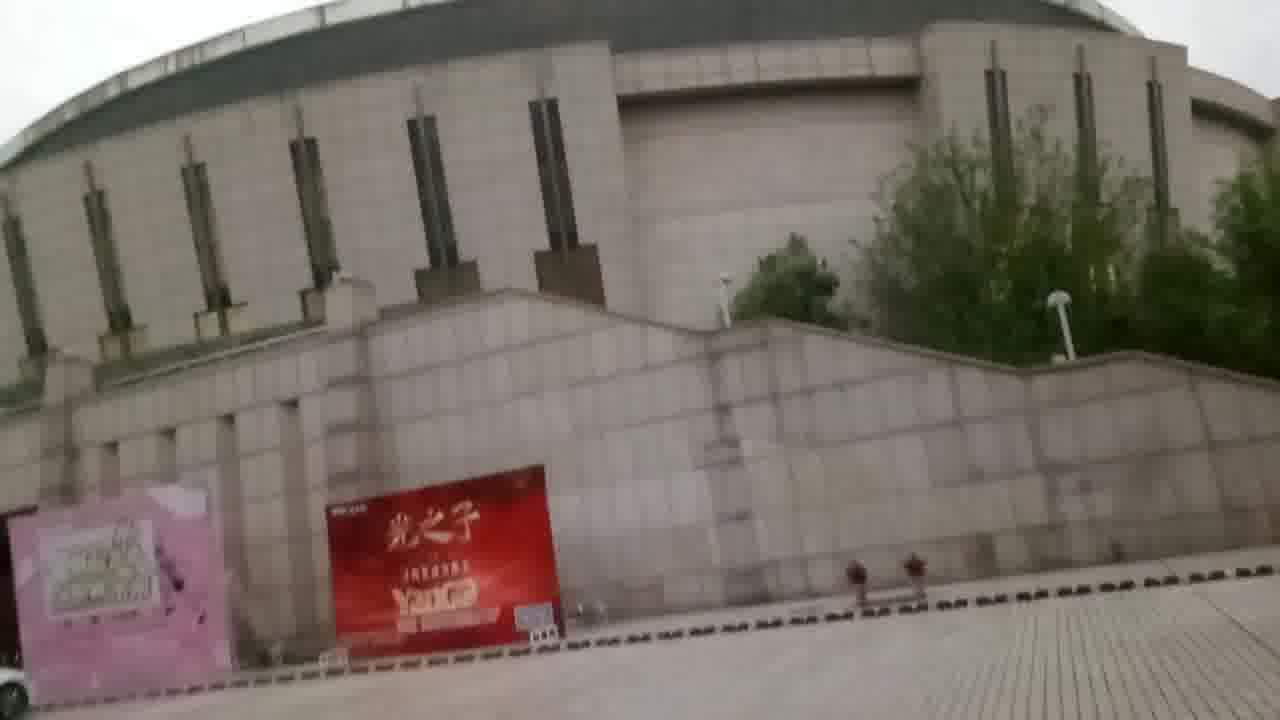zhongtiww: (14, 8, 1280, 634)
